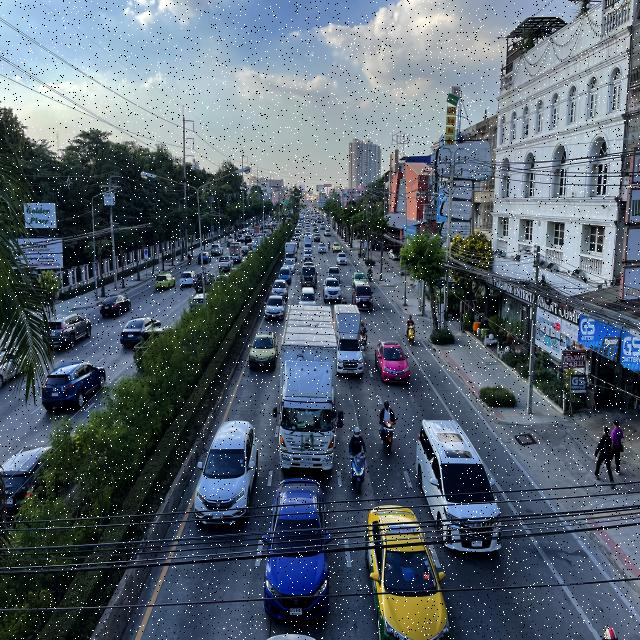bike: (348, 425, 367, 494), (378, 397, 397, 455), (404, 313, 416, 345), (358, 316, 368, 352)
car: (414, 418, 504, 556), (364, 503, 451, 640), (263, 478, 332, 623), (375, 340, 411, 386), (264, 295, 286, 322), (322, 278, 342, 303), (297, 286, 318, 308), (270, 279, 288, 302)
truck: (272, 305, 344, 476), (334, 304, 364, 376), (299, 261, 318, 288)
